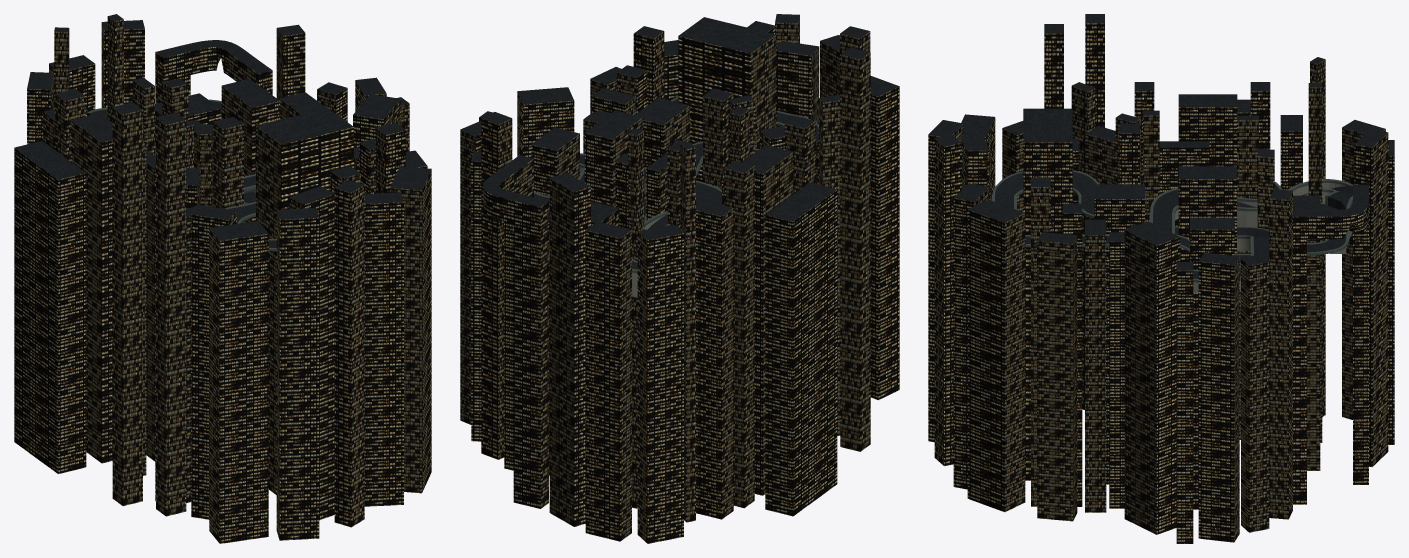
Rendered from TRACKkiall awesome.glb.
The picture shows the model from 3 angles, left to right: view 1: azimuth 30°, elevation 25°; view 2: azimuth 150°, elevation 25°; view 3: azimuth 270°, elevation 25°; orthographic projection. The views are drawn at different scales.
Parts seen in each view (by area): view 1: bg buildings, track; view 2: bg buildings, track, sidings; view 3: bg buildings, track, sidings.
Part boxes in pixels (left/top/right/bottom): bg buildings: left=14, top=14, right=431, bottom=543; track: left=89, top=101, right=276, bottom=247; bg buildings: left=460, top=14, right=899, bottom=543; track: left=534, top=98, right=818, bottom=269; sidings: left=512, top=97, right=818, bottom=296; bg buildings: left=928, top=14, right=1394, bottom=543; track: left=995, top=172, right=1352, bottom=292; sidings: left=992, top=170, right=1352, bottom=282.
Bounding box in the file's own units: 756 × 808 × 913.
5 materials, 5 textured.
